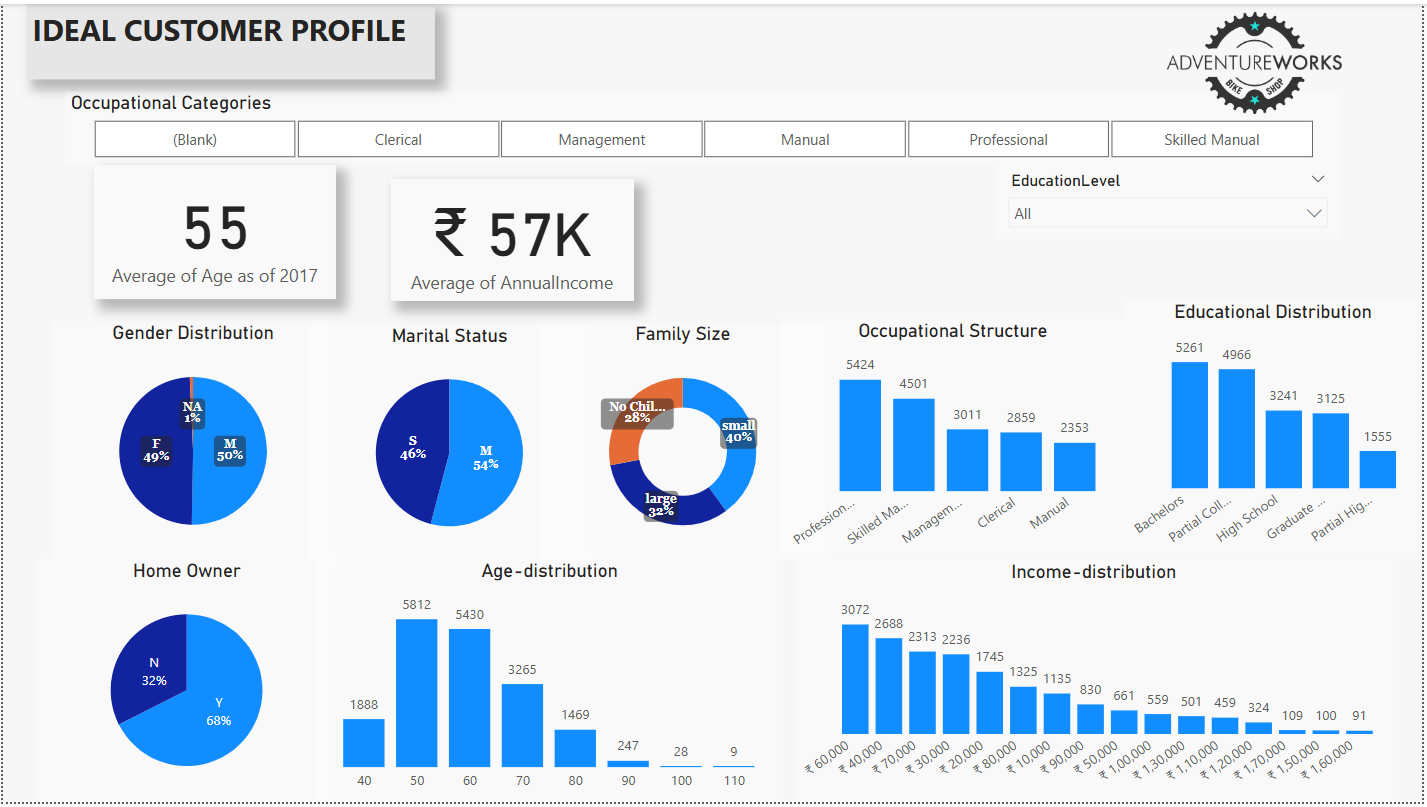

What the dashboard file says about the page in this screenshot:
{"tool":"powerbi","page":{"name":"Page 1","canvas":[1280,720],"ordinal":0},"visuals":[{"type":"textbox","box":[21.6,0,367.9,67.8],"z":0},{"type":"pieChart","title":"Gender Distribution","fields":{"Category":["AW_Customers.Gender"],"Y":["CountNonNull(AW_Customers.CustomerKey)"]},"box":[44.3,286.4,255.3,214.5],"z":1000},{"type":"pieChart","title":"Marital Status","fields":{"Y":["CountNonNull(AW_Customers.CustomerKey)"],"Category":["AW_Customers.MaritalStatus"]},"box":[275,286.4,255.7,215.9],"z":2000},{"type":"pieChart","title":"Home Owner","fields":{"Category":["AW_Customers.HomeOwner"],"Y":["CountNonNull(AW_Customers.CustomerKey)"]},"box":[31.7,500.6,268.4,217.9],"z":3000},{"type":"clusteredColumnChart","title":"Age-distribution","fields":{"Y":["CountNonNull(AW_Customers.CustomerKey)"],"Category":["AW_Customers.Age (bins)"]},"box":[282.8,500.6,419.8,217.9],"z":4000},{"type":"donutChart","title":"Family Size","fields":{"Y":["CountNonNull(AW_Customers.CustomerKey)"],"Category":["AW_Customers.Family Size"]},"box":[485.2,286.4,256.8,214.8],"z":5000},{"type":"clusteredColumnChart","title":"Income-distribution","fields":{"Y":["CountNonNull(AW_Customers.CustomerKey)"],"Category":["AW_Customers.AnnualIncome"]},"box":[714.2,502.1,538.2,217.9],"z":6000},{"type":"slicer","title":"Occupational Categories","fields":{"Values":["AW_Customers.Occupation"]},"box":[56.3,79.4,1148.4,66.4],"z":7000},{"type":"slicer","fields":{"Values":["AW_Customers.EducationLevel"]},"box":[896,145.7,308.8,66.4],"z":8000},{"type":"card","fields":{"Values":["Avg(AW_Customers.Age as of 2017)"]},"box":[82.2,145.7,217.9,121.2],"z":9000},{"type":"card","fields":{"Values":["Avg(AW_Customers.AnnualIncome)"]},"box":[348.9,145.5,219.3,121.6],"z":10000},{"type":"clusteredColumnChart","title":"Occupational Structure","fields":{"Y":["CountNonNull(AW_Customers.CustomerKey)"],"Category":["AW_Customers.Occupation"]},"box":[702.3,286.4,309.1,214.8],"z":11000},{"type":"clusteredColumnChart","title":"Educational Distribution","fields":{"Y":["CountNonNull(AW_Customers.CustomerKey)"],"Category":["AW_Customers.EducationLevel"]},"box":[998.9,286.4,280.7,214.8],"z":12000},{"type":"image","box":[984,0,290,106.8],"z":13000}]}

Visuals, with their boxes in screenshot pixels (x1, y1, x2, y2), scaled from the page's 1280x720 canvas onto the 1427x807 screenshot:
textbox: {"x1": 24, "y1": 0, "x2": 434, "y2": 76}
"Gender Distribution" pieChart: {"x1": 49, "y1": 321, "x2": 334, "y2": 561}
"Marital Status" pieChart: {"x1": 307, "y1": 321, "x2": 592, "y2": 563}
"Home Owner" pieChart: {"x1": 35, "y1": 561, "x2": 335, "y2": 805}
"Age-distribution" clusteredColumnChart: {"x1": 315, "y1": 561, "x2": 783, "y2": 805}
"Family Size" donutChart: {"x1": 541, "y1": 321, "x2": 827, "y2": 562}
"Income-distribution" clusteredColumnChart: {"x1": 796, "y1": 563, "x2": 1396, "y2": 806}
"Occupational Categories" slicer: {"x1": 63, "y1": 89, "x2": 1343, "y2": 163}
slicer - AW_Customers.EducationLevel: {"x1": 999, "y1": 163, "x2": 1343, "y2": 238}
card - Avg(AW_Customers.Age as of 2017): {"x1": 92, "y1": 163, "x2": 335, "y2": 299}
card - Avg(AW_Customers.AnnualIncome): {"x1": 389, "y1": 163, "x2": 633, "y2": 299}
"Occupational Structure" clusteredColumnChart: {"x1": 783, "y1": 321, "x2": 1128, "y2": 562}
"Educational Distribution" clusteredColumnChart: {"x1": 1114, "y1": 321, "x2": 1426, "y2": 562}
image: {"x1": 1097, "y1": 0, "x2": 1420, "y2": 120}
